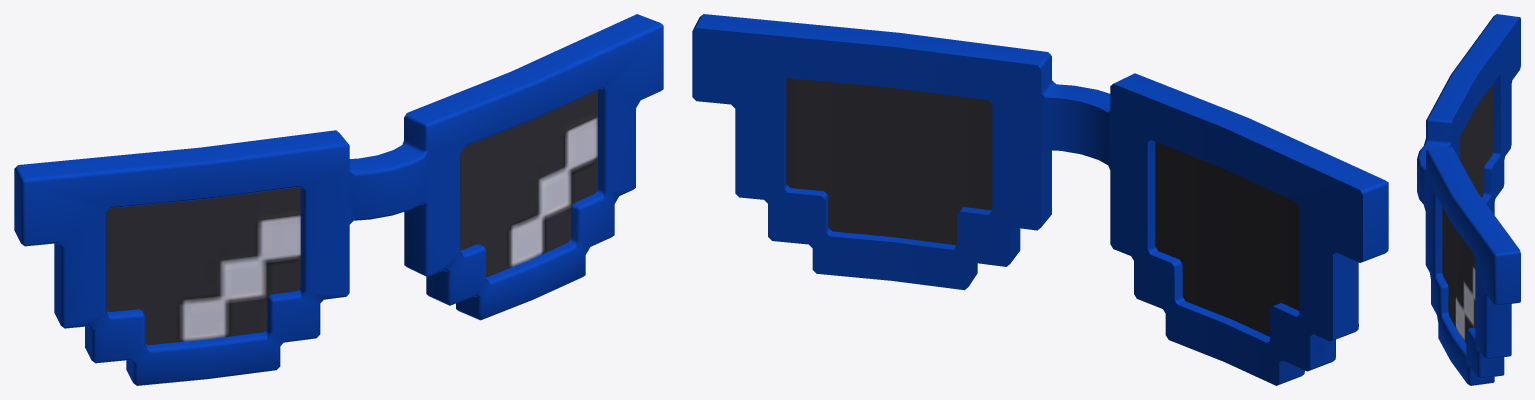
File: AccessoryGlassDot2.glb
The picture shows the model from 3 angles, left to right: view 1: azimuth 30°, elevation 25°; view 2: azimuth 150°, elevation 25°; view 3: azimuth 270°, elevation 25°; orthographic projection. The views are drawn at different scales.
Parts seen in each view (by area): view 1: Accessory__mAccessory; view 2: Accessory__mAccessory; view 3: Accessory__mAccessory.
Boxes of the visible parts, x1,y1,x2,y2 form: Accessory__mAccessory: [14, 14, 663, 385]; Accessory__mAccessory: [692, 14, 1388, 385]; Accessory__mAccessory: [1417, 14, 1520, 385].
Bounding box in the file's own units: 6.38 × 2.07 × 1.16.
1 material, 1 textured.
